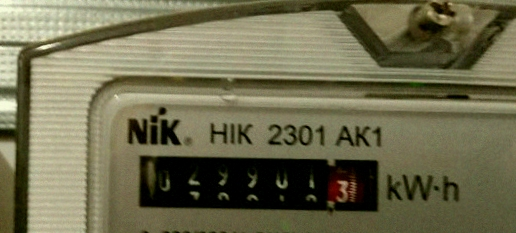0: (154, 164, 173, 192), (273, 161, 290, 190)
1: (304, 161, 318, 189)
2: (184, 159, 203, 186)
3: (333, 176, 351, 203)
9: (214, 160, 231, 187), (245, 161, 259, 189)
screen: (129, 144, 390, 222)
